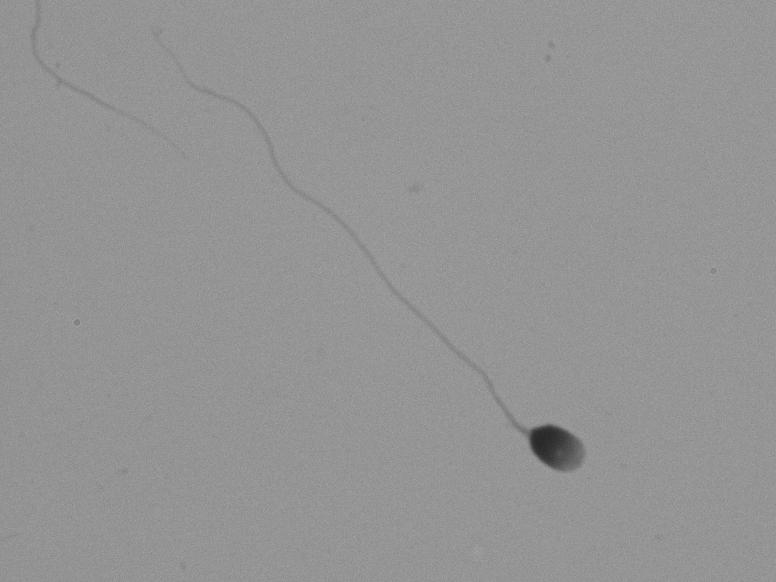Normal: (168, 83, 688, 497)
